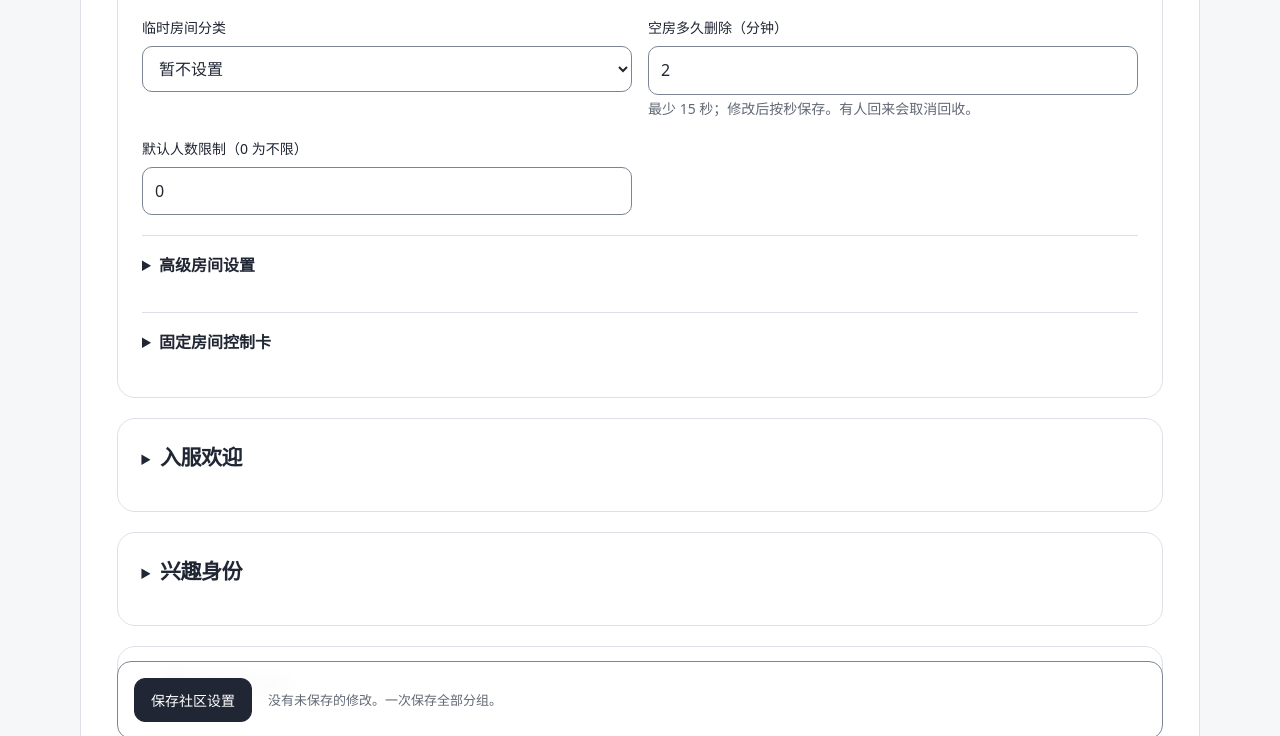
Test: keeps fixed categories folded and saves only opaque category references
This screenshot has width=1280, height=736.
(page scrolled)
Check: the button "保存社区设置" is shown, box [134,678,252,722]
Check: the checkbox labelled "固定私人房间分类" is not shown
Click the heading "固定房间控制卡" at x=215, y=342, box [159,332,271,354]
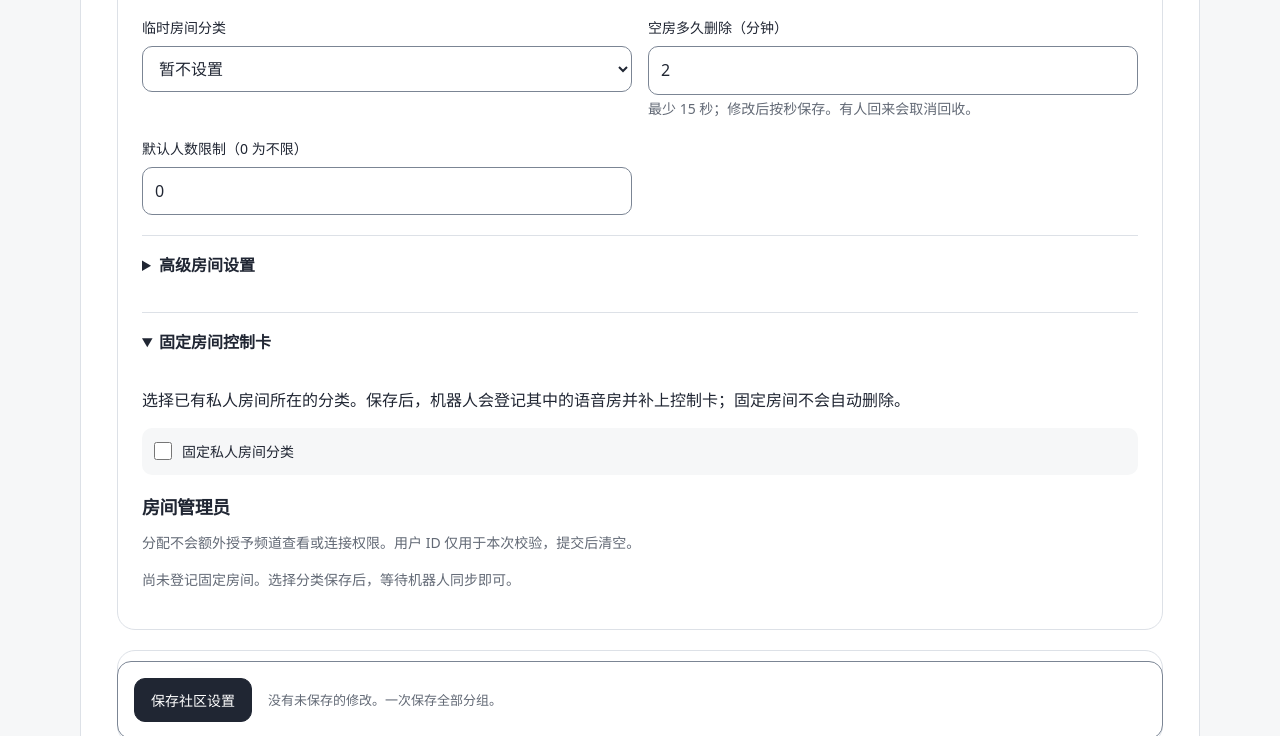
Click the checkbox labelled "固定私人房间分类" at x=163, y=451, box [154,442,172,460]
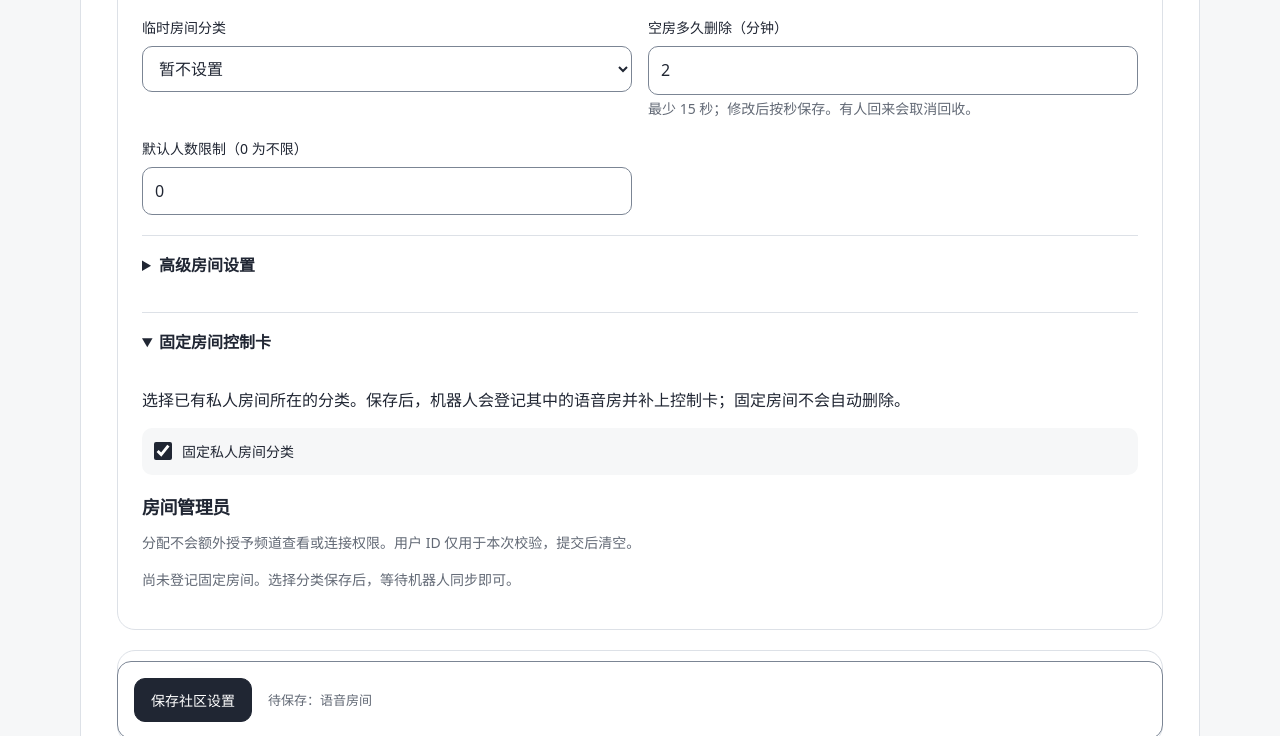
Click the button "保存社区设置" at x=193, y=700, box [134,678,252,722]
(page scrolled)
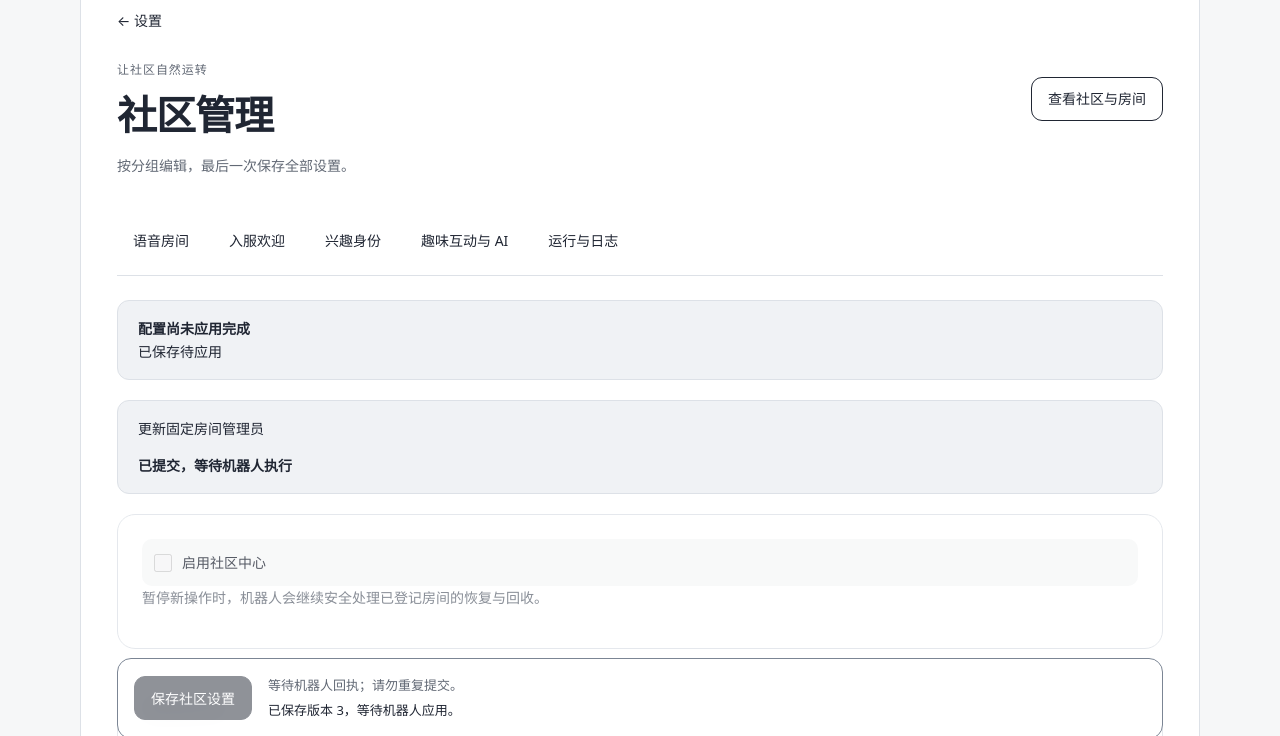
Check: the text "已保存待应用" is shown, box [138,342,222,361]
